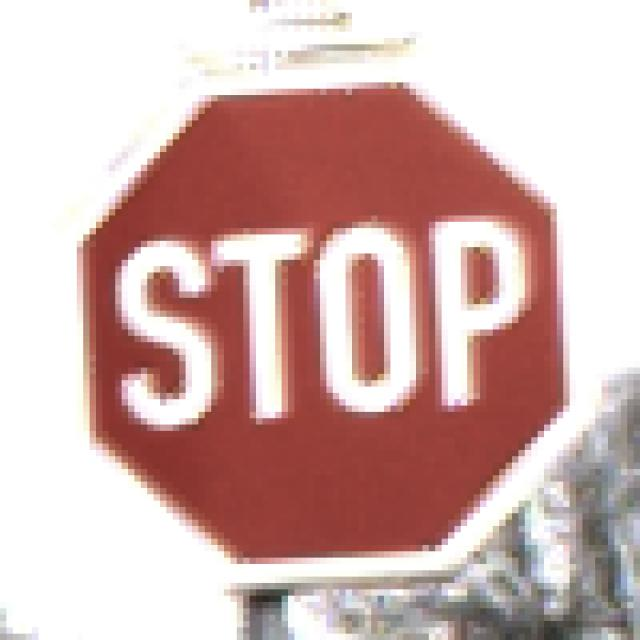STOP: (52, 58, 590, 590)
